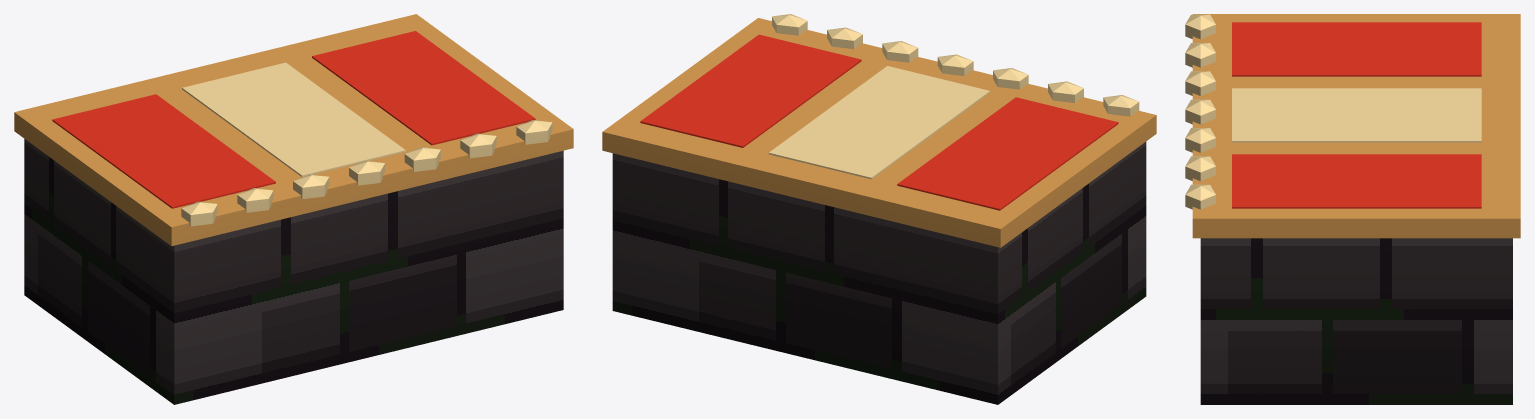
Rendered from glass_terrace.glb.
The picture shows the model from 3 angles, left to right: view 1: azimuth 30°, elevation 25°; view 2: azimuth 150°, elevation 25°; view 3: azimuth 270°, elevation 25°; orthographic projection. The views are drawn at different scales.
Parts seen in each view (by area): view 1: glass_terrace; view 2: glass_terrace; view 3: glass_terrace.
Part boxes in pixels (x1,y1,x2,y2): glass_terrace: (14, 14, 573, 404); glass_terrace: (602, 14, 1156, 404); glass_terrace: (1185, 14, 1520, 404).
Bounding box in the file's own units: 3.1 × 1.44 × 2.15.
Materials: 3 (1 with a texture image).
